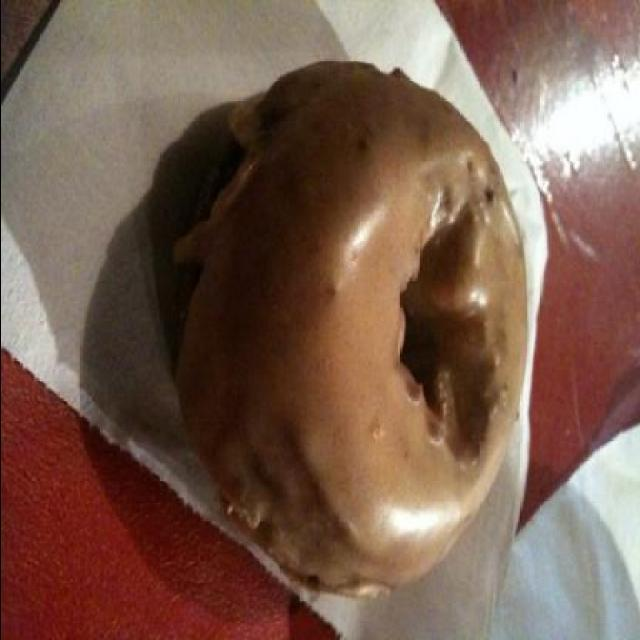Donuts: (110, 59, 547, 608)
